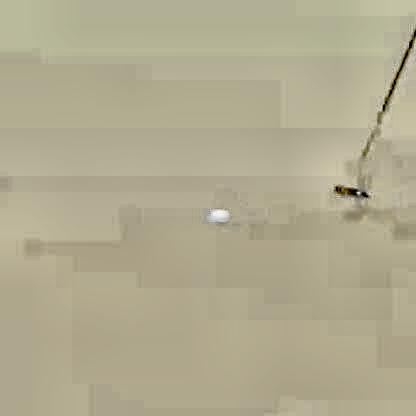golfball: (207, 206, 227, 221)
